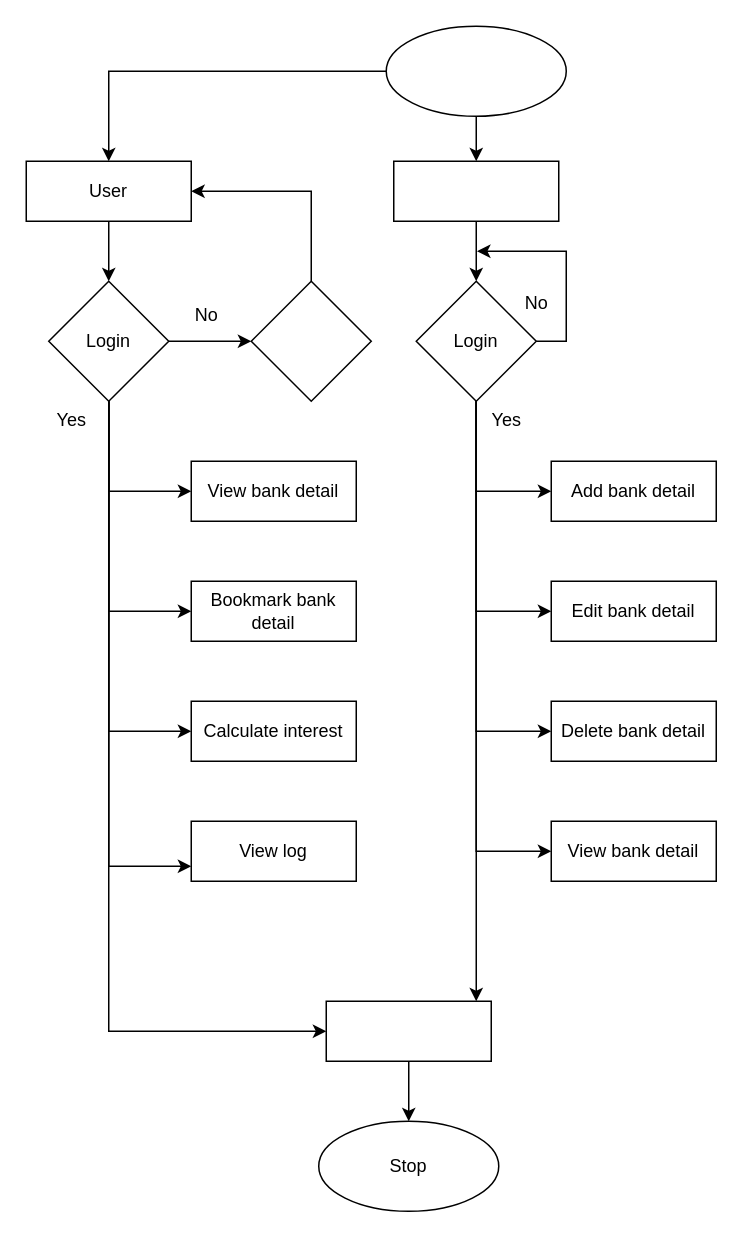
The diagram is 743 pixels wide and 1238 high, and some of its shapes have lost their labels. The shapes that lost their labels are listed below. From the top down, each one's centre as x and y in pixels, then its label:
At pixel 475 70: "Start".
At pixel 475 190: "Admin".
At pixel 310 340: "Register".
At pixel 408 1030: "Logout".
